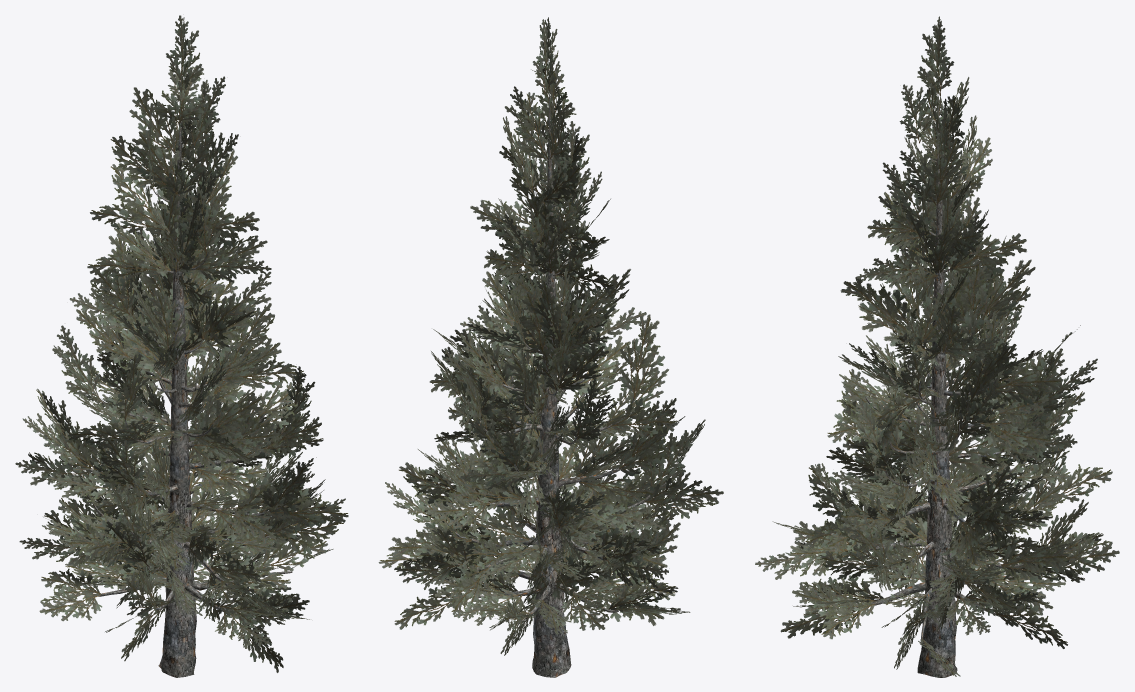
File: tree-spruce-18m.glb
The picture shows the model from 3 angles, left to right: view 1: azimuth 30°, elevation 25°; view 2: azimuth 150°, elevation 25°; view 3: azimuth 270°, elevation 25°; orthographic projection.
Visible parts, largest first — view 1: Spruce_LOD0_M_Branch.001_0, Spruce_LOD0_M_Bark.001_0; view 2: Spruce_LOD0_M_Branch.001_0, Spruce_LOD0_M_Bark.001_0; view 3: Spruce_LOD0_M_Branch.001_0, Spruce_LOD0_M_Bark.001_0.
Part boxes in pixels (x1,y1,x2,y2): Spruce_LOD0_M_Branch.001_0: [15, 15, 348, 672]; Spruce_LOD0_M_Bark.001_0: [89, 101, 292, 677]; Spruce_LOD0_M_Branch.001_0: [378, 17, 723, 655]; Spruce_LOD0_M_Bark.001_0: [455, 92, 666, 677]; Spruce_LOD0_M_Branch.001_0: [755, 16, 1119, 676]; Spruce_LOD0_M_Bark.001_0: [812, 93, 1038, 677].
Bounding box in the file's own units: 8.1 × 16.59 × 8.42.
2 materials, 2 textured.
